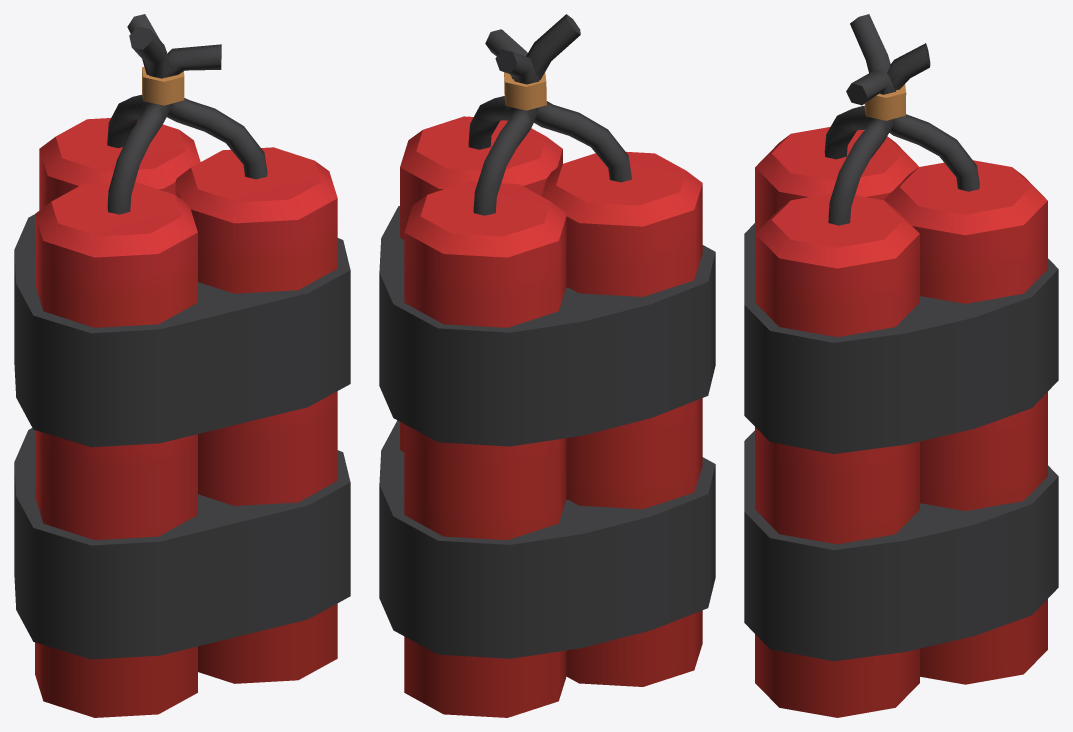
File: Bomb_M.fbx
3 renders of one model, left to right at view 1: azimuth 30°, elevation 25°; view 2: azimuth 150°, elevation 25°; view 3: azimuth 270°, elevation 25°, orthographic. The views are drawn at different scales.
Parts seen in each view (by area): view 1: Dynamite02; view 2: Dynamite02; view 3: Dynamite02.
Boxes of the visible parts, bbox=[...] form: Dynamite02: bbox=[14, 14, 350, 717]; Dynamite02: bbox=[379, 14, 715, 717]; Dynamite02: bbox=[744, 14, 1058, 717].
Bounding box in the file's own units: 17.51 × 34.34 × 15.76.
